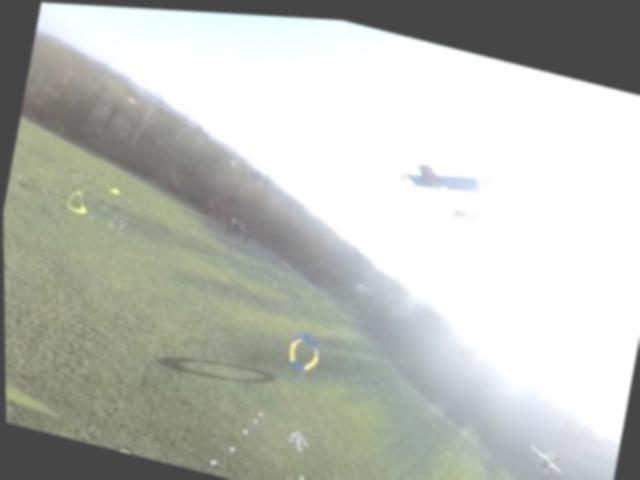uav: (385, 130, 504, 235)
